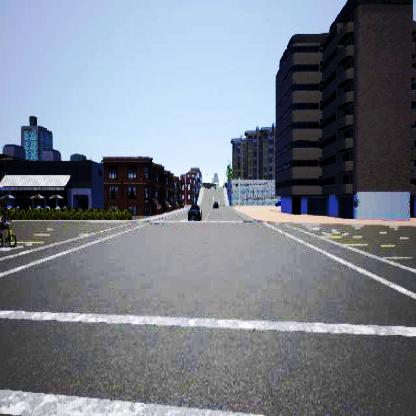bike: (0, 208, 18, 244)
vehicle: (187, 204, 201, 220)
